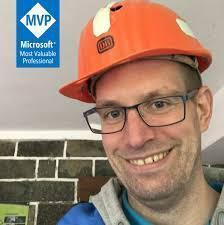helmet: (58, 0, 212, 102)
